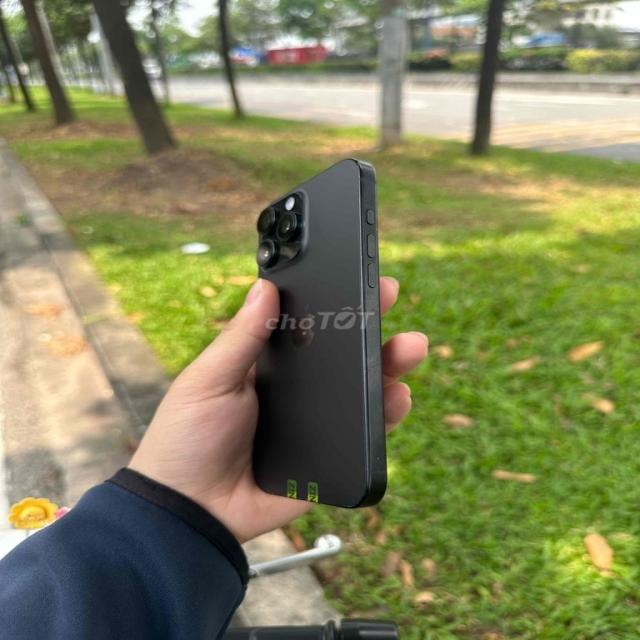gen_16: (230, 146, 430, 526)
